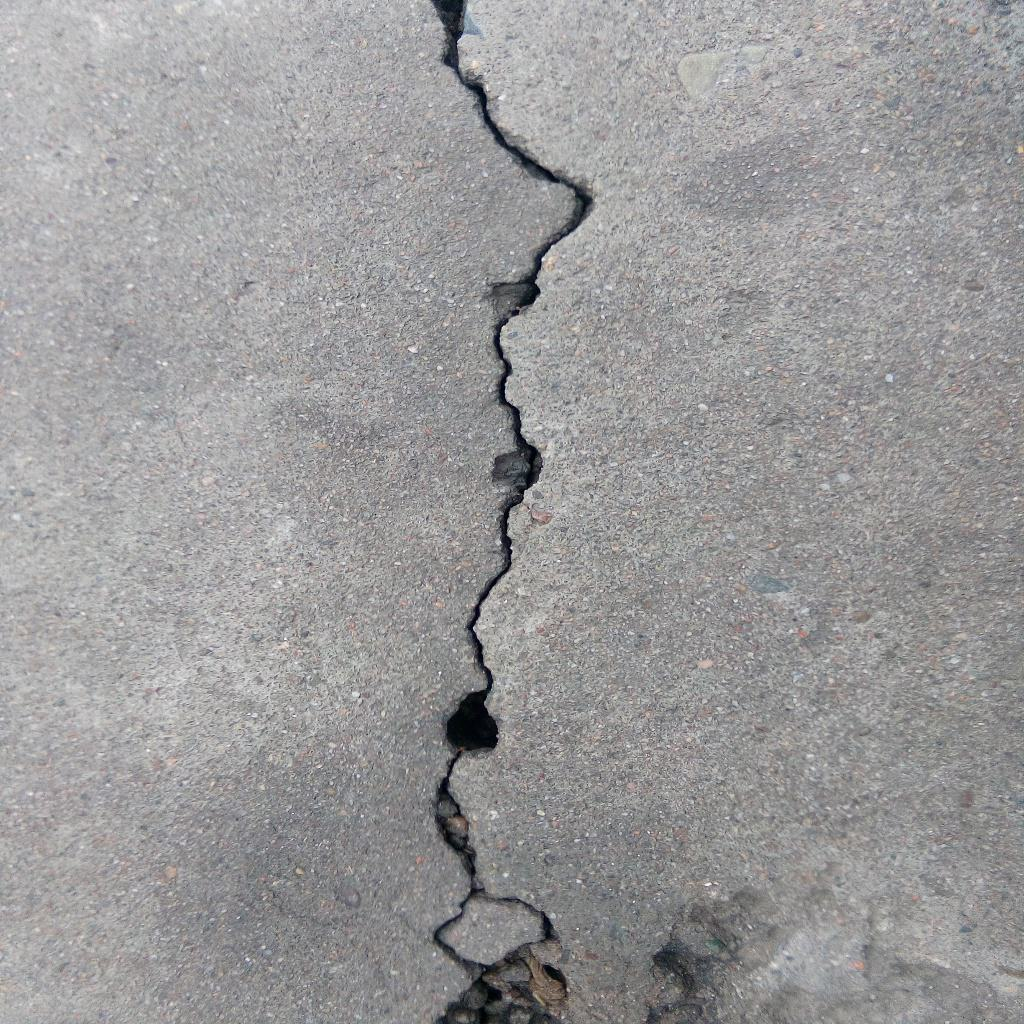Crack: (427, 1, 597, 1024)
Spalling: (644, 880, 1024, 1024)
